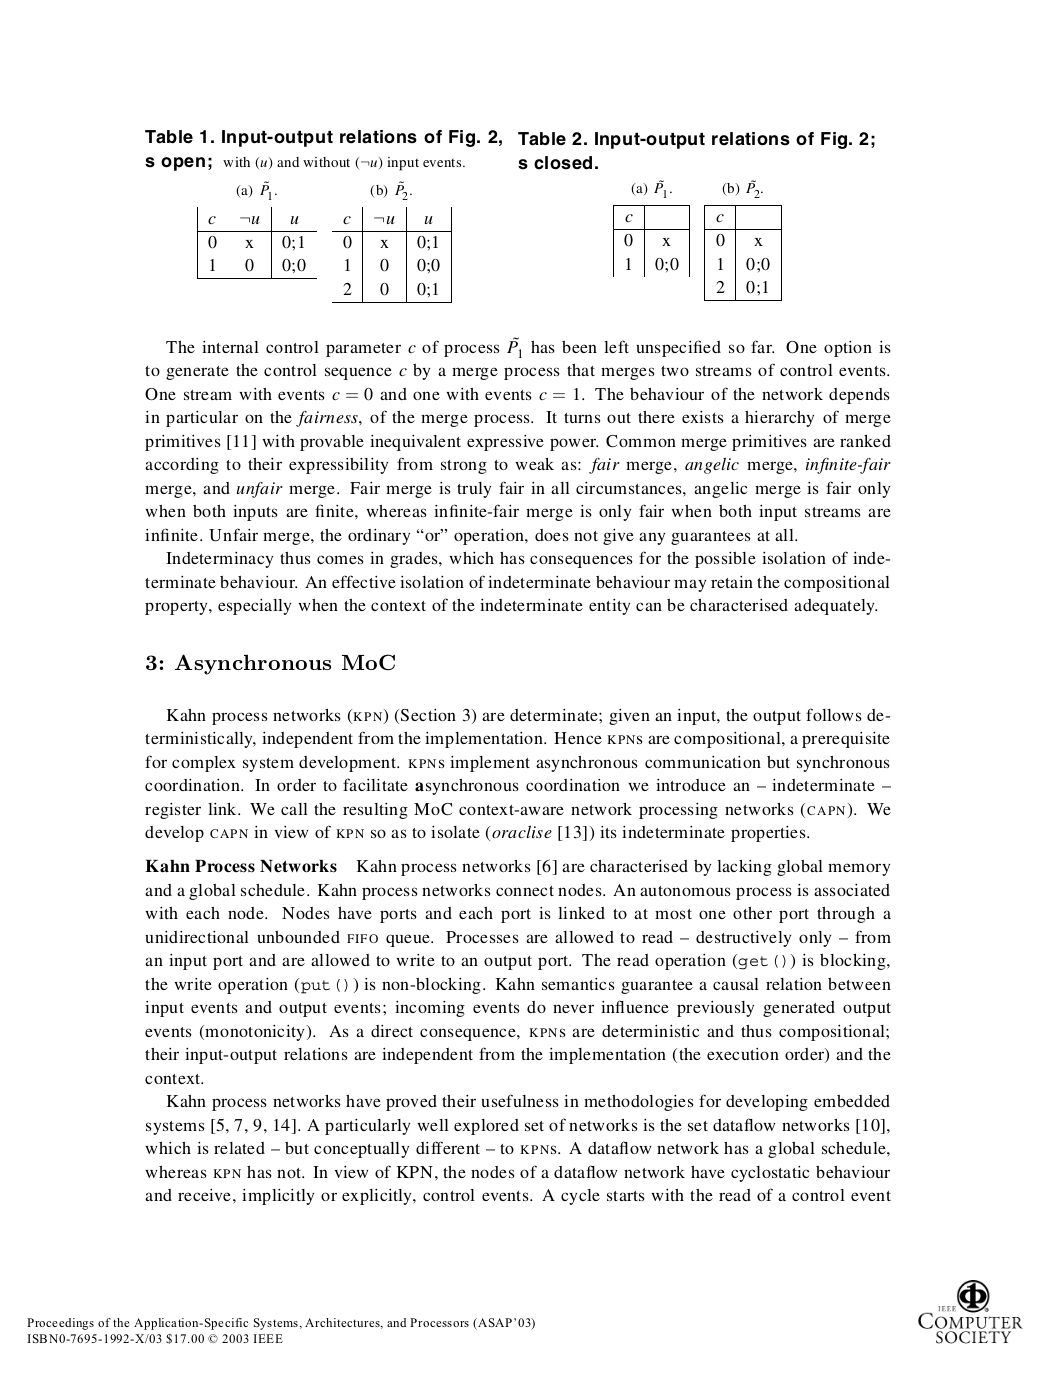Table: (332, 207, 451, 302), (197, 207, 317, 277), (704, 205, 781, 298), (613, 205, 689, 276)
figure: (918, 1281, 1022, 1343)
